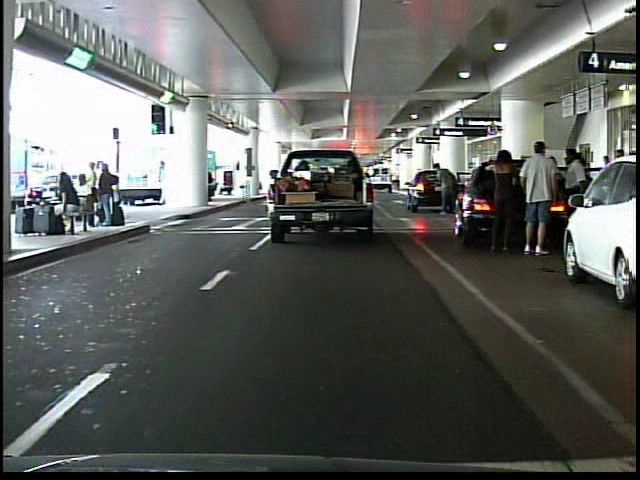person: (518, 138, 560, 257), (481, 138, 521, 260), (557, 143, 596, 258), (431, 157, 457, 221), (155, 160, 171, 206)
